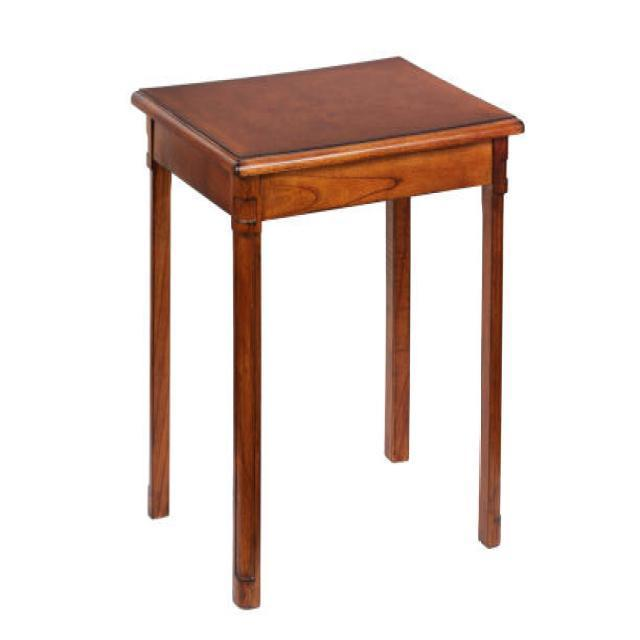table: (130, 53, 526, 609)
